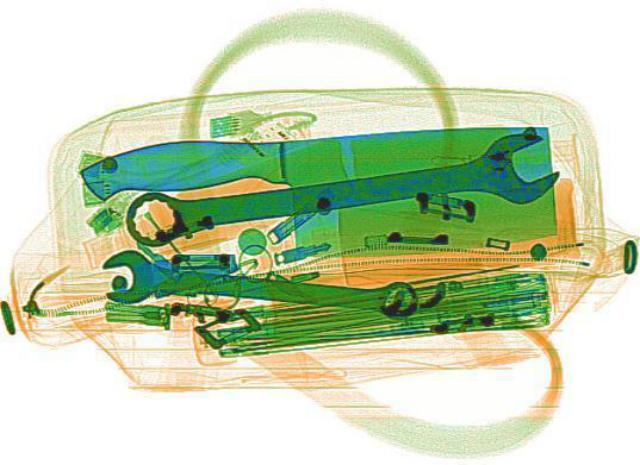Knife: (74, 125, 556, 264)
Wrench: (112, 126, 568, 255), (94, 245, 422, 329)
